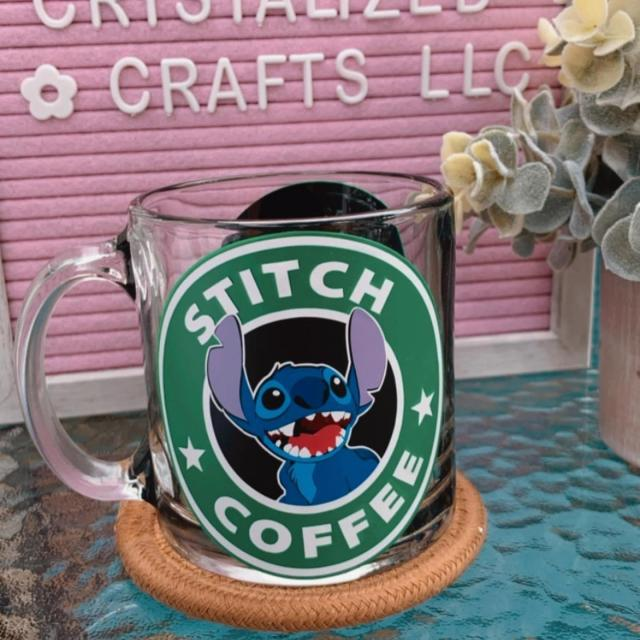glass-mug: (5, 163, 476, 590)
